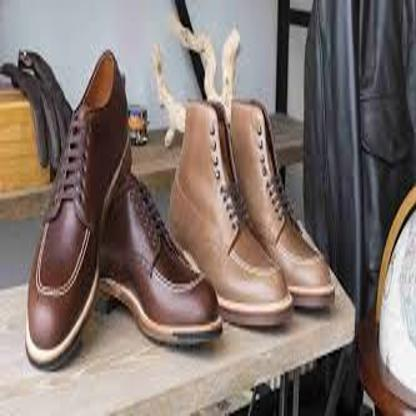not trash: (24, 45, 130, 376), (161, 98, 292, 331), (92, 167, 221, 346), (226, 102, 334, 309)
